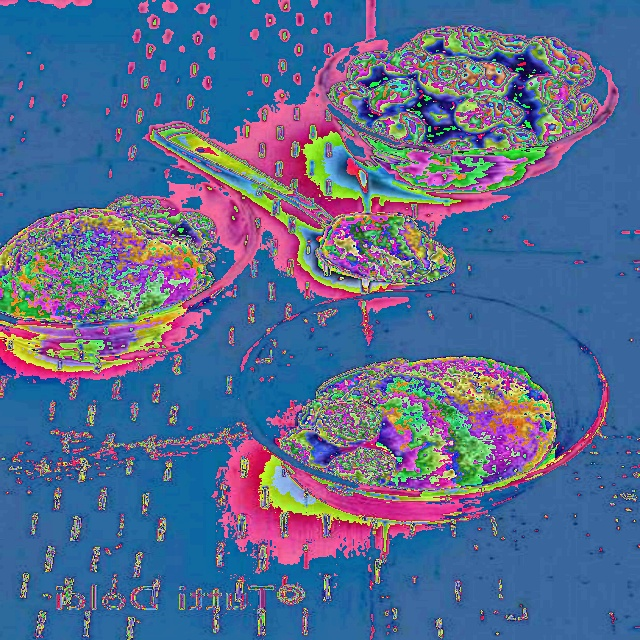background: (278, 138, 557, 493), (116, 70, 435, 281), (270, 24, 597, 191), (0, 170, 217, 365)
